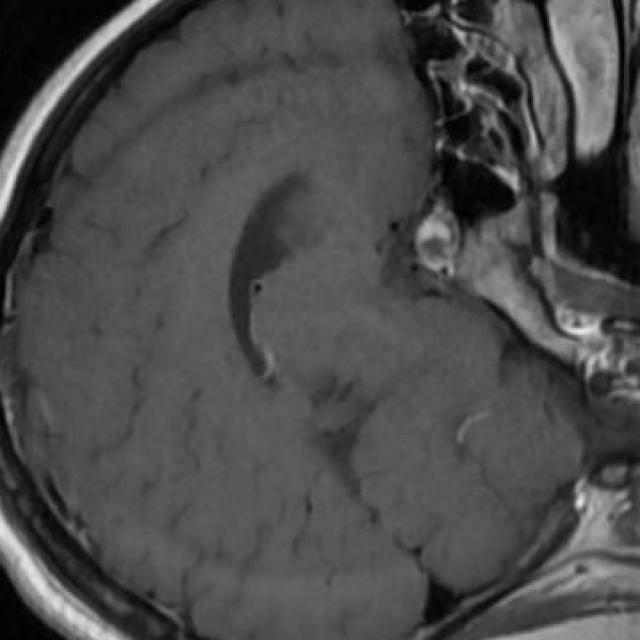pituitary: (414, 207, 462, 278)
